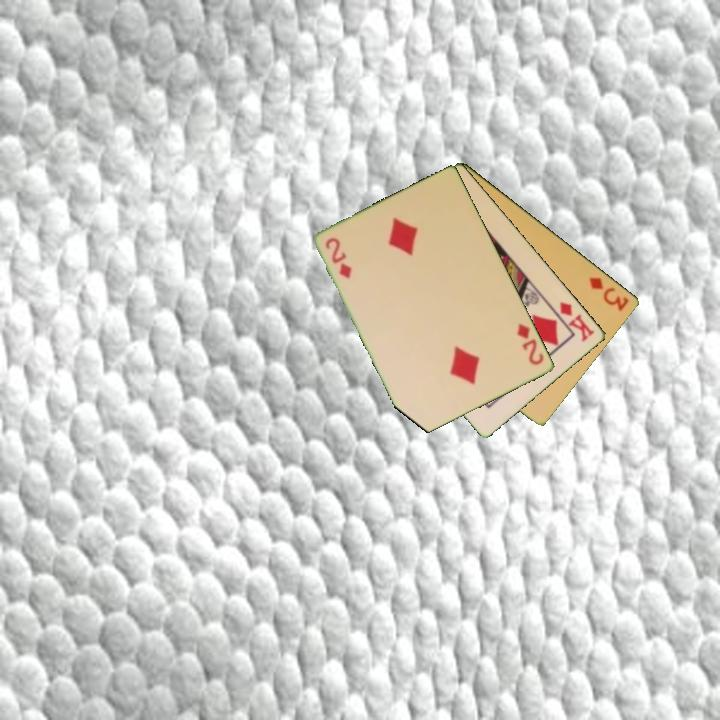2d: (514, 320, 547, 368), (322, 234, 355, 281)
3d: (586, 273, 632, 314)
Kd: (556, 298, 598, 345)
